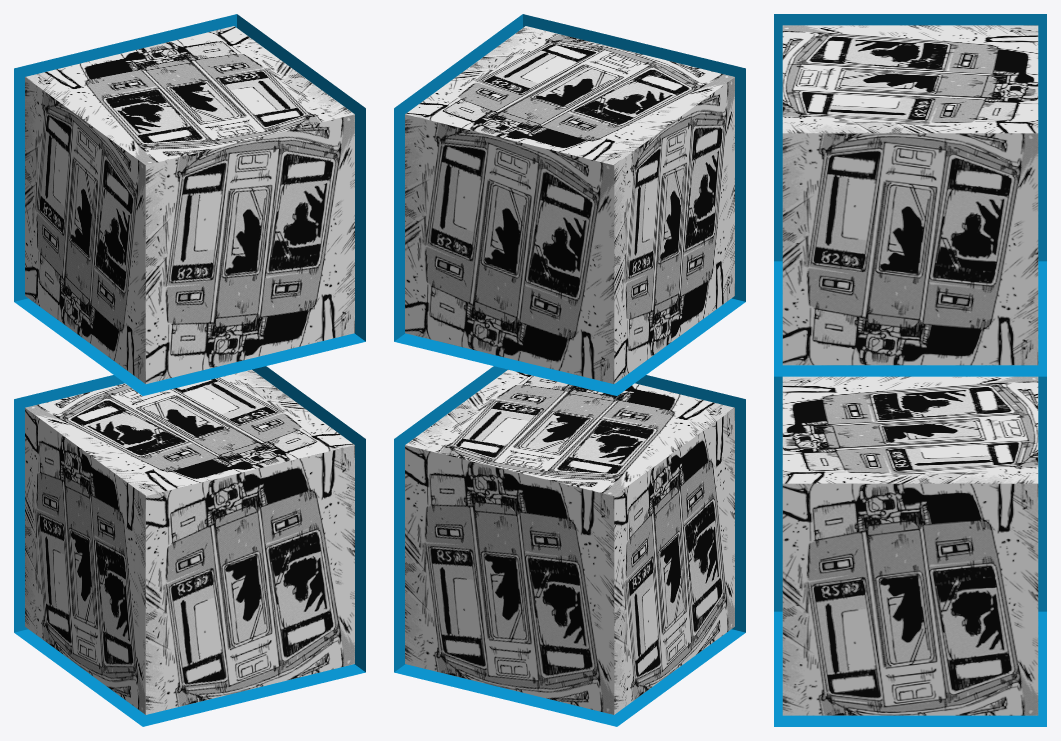
The model's file is ICON_8200.glb.
3 views of the same model, side by side, from view 1: azimuth 30°, elevation 25°; view 2: azimuth 150°, elevation 25°; view 3: azimuth 270°, elevation 25° (orthographic). The views are drawn at different scales.
Visible parts, largest first — view 1: ICON_8200, obj6, obj3, obj12; view 2: ICON_8200, obj6, obj3, obj12; view 3: ICON_8200, obj6, obj3, obj12.
Part boxes in pixels (box(x1,y1,x2,y2)): ICON_8200: box(25, 26, 354, 383); obj6: box(25, 369, 354, 714); obj3: box(14, 14, 365, 395); obj12: box(14, 366, 365, 726); ICON_8200: box(405, 26, 734, 383); obj6: box(405, 369, 734, 714); obj3: box(394, 14, 745, 395); obj12: box(394, 366, 745, 726); ICON_8200: box(782, 25, 1038, 365); obj6: box(782, 376, 1038, 715); obj3: box(774, 14, 1046, 376); obj12: box(774, 376, 1046, 726).
Bounding box in the file's own units: 2.4 × 5.8 × 2.4.
10 materials, 10 textured.
